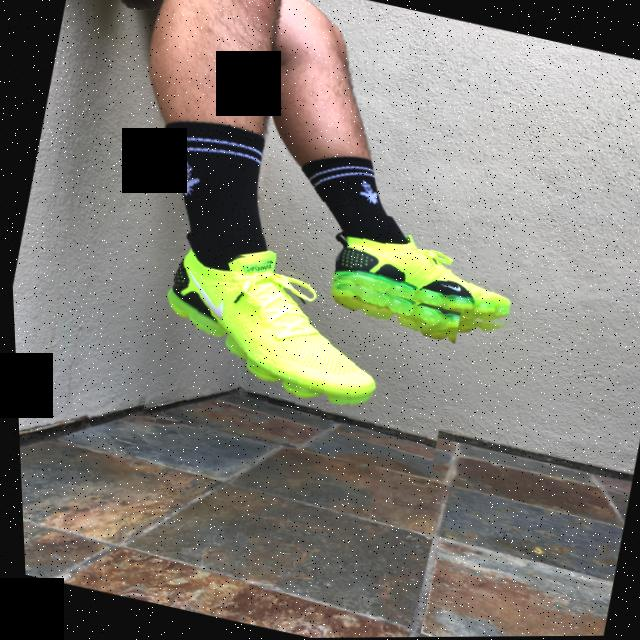shoe: (123, 234, 466, 480), (266, 194, 526, 340)
